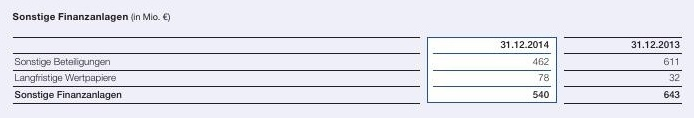table: (0, 0, 694, 118)
